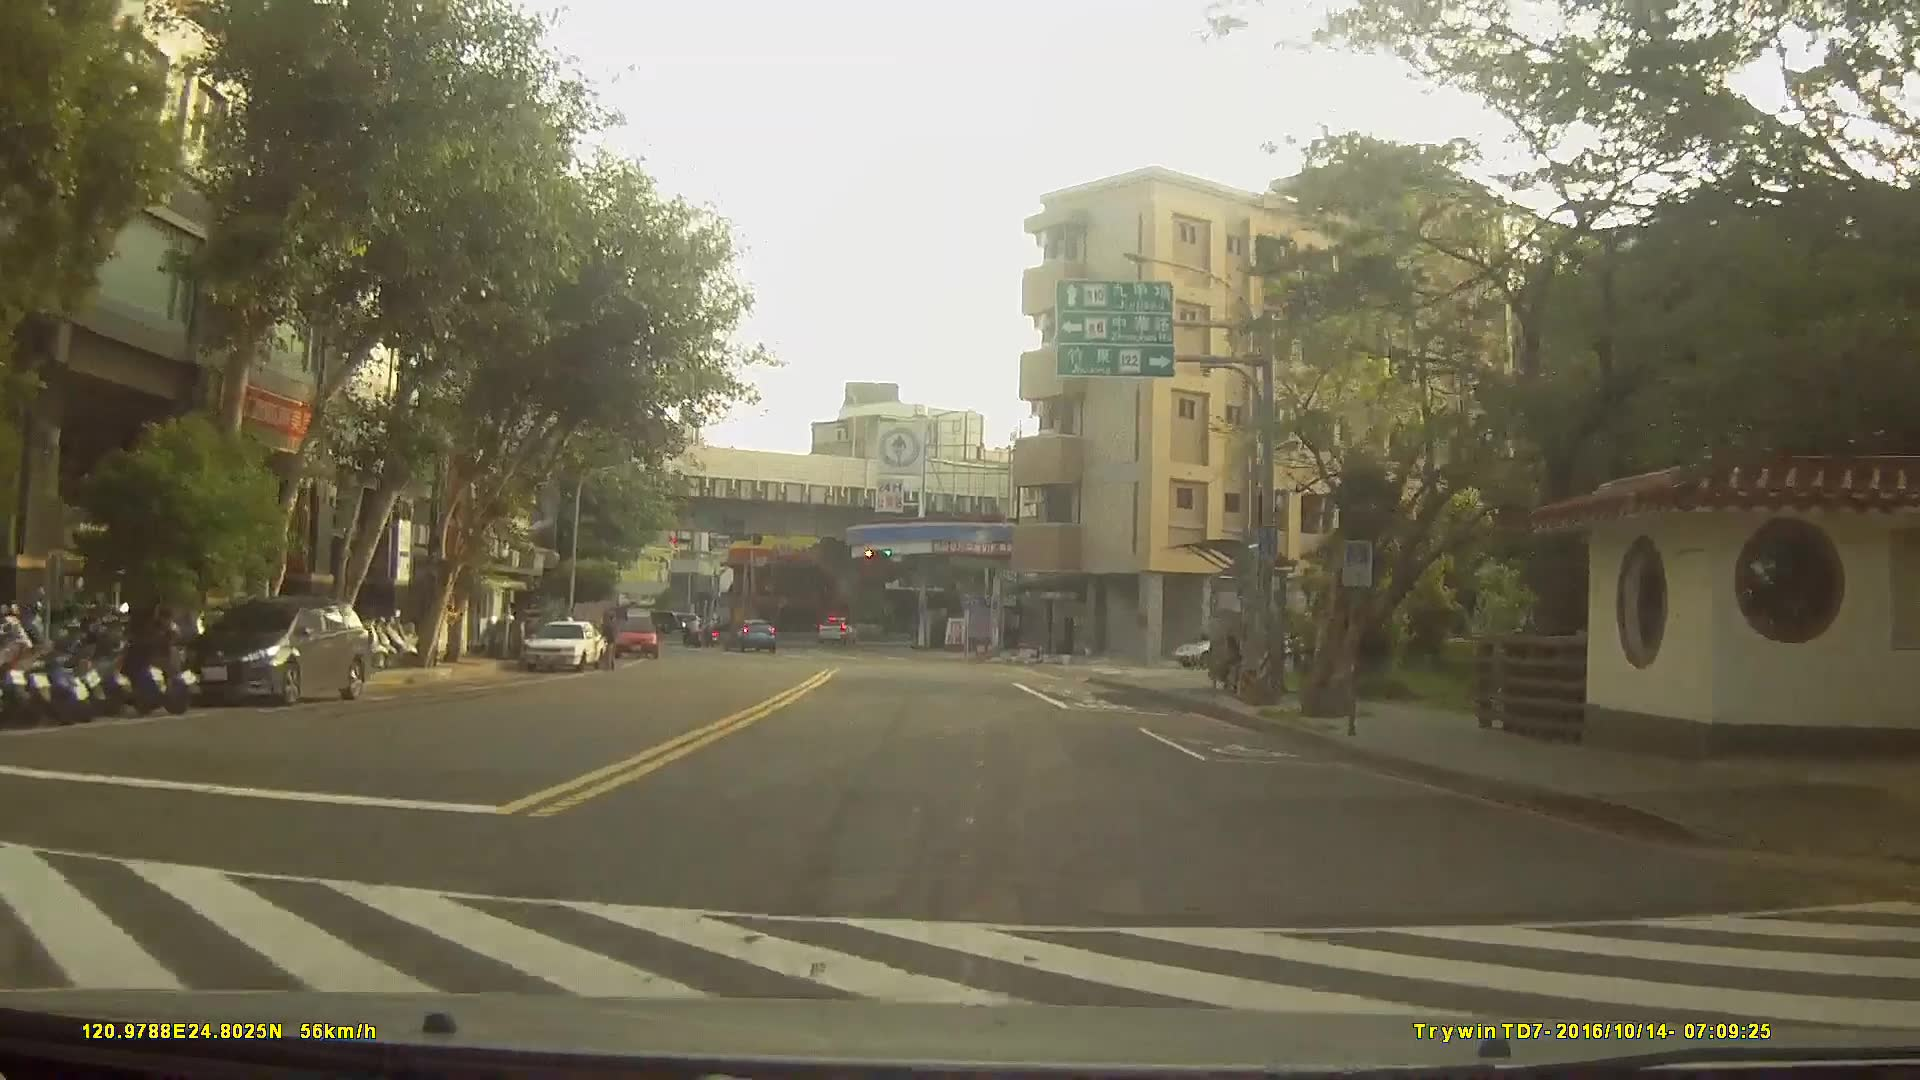rider: (680, 615, 704, 651)
vehicle: (185, 594, 368, 705), (522, 617, 607, 673), (615, 615, 660, 658), (723, 616, 777, 651), (818, 613, 859, 641)
